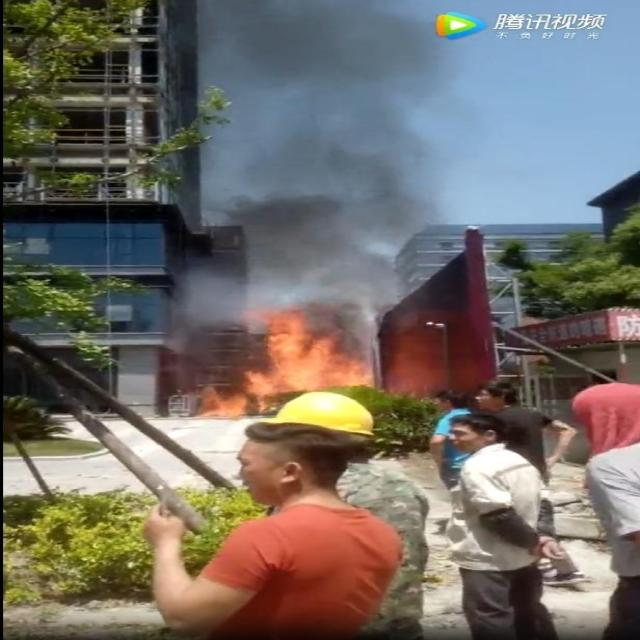fire: (205, 311, 372, 409)
smoke: (212, 3, 442, 225), (239, 180, 403, 313)
